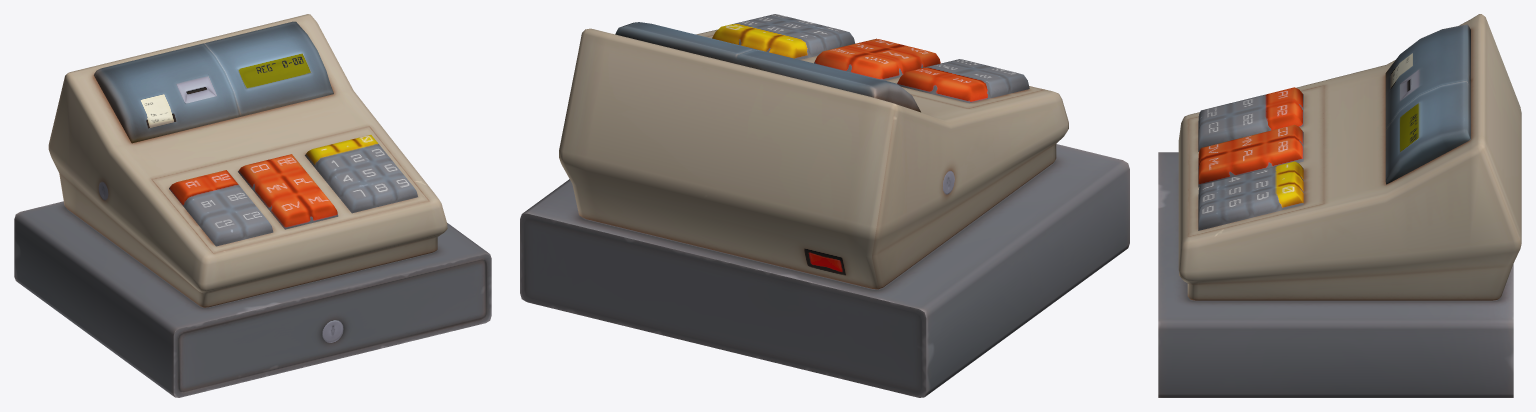
Rendered from CommCashRegister01.FBX.
3 renders of one model, left to right at view 1: azimuth 30°, elevation 25°; view 2: azimuth 150°, elevation 25°; view 3: azimuth 270°, elevation 25°, orthographic. The views are drawn at different scales.
Visible parts, largest first — view 1: CommCashRegister01; view 2: CommCashRegister01; view 3: CommCashRegister01.
Boxes of the visible parts, x1,y1,x2,y2 form: CommCashRegister01: [14, 14, 491, 397]; CommCashRegister01: [520, 14, 1129, 397]; CommCashRegister01: [1158, 14, 1521, 397].
Size of what is drawn, in the model's own units: 0.6339 by 0.4069 by 0.5627.
